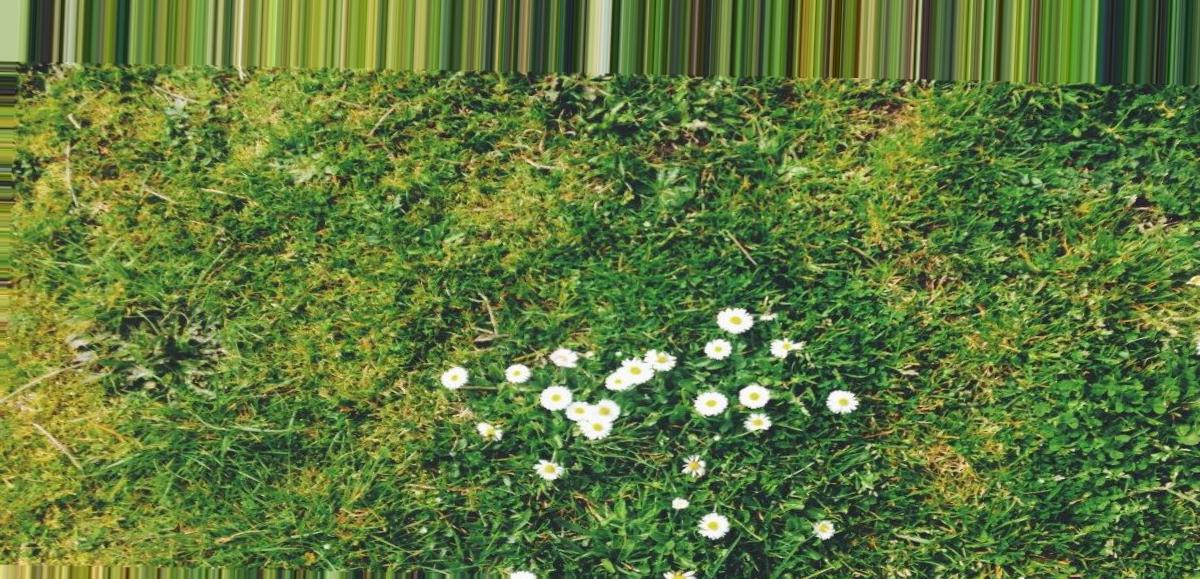patch: (24, 322, 81, 465), (917, 440, 976, 492)
